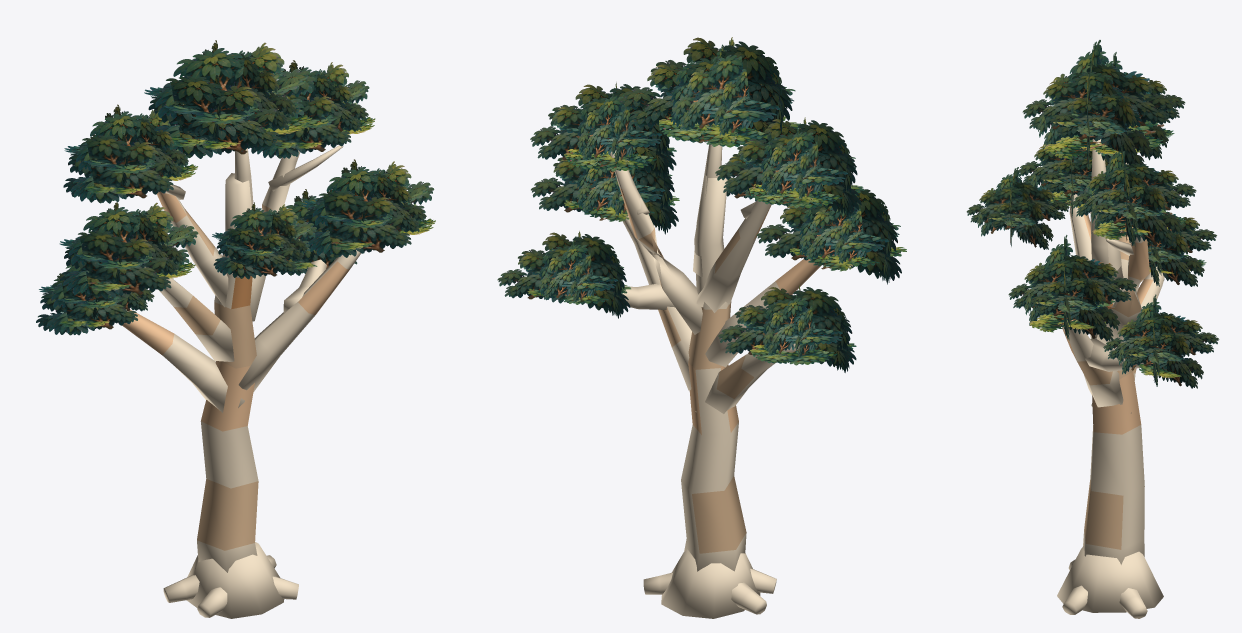
The model's file is TREE_EUCALYPTUS_001_v010_LOD_MAP.glb.
3 renders of one model, left to right at view 1: azimuth 30°, elevation 25°; view 2: azimuth 150°, elevation 25°; view 3: azimuth 270°, elevation 25°, orthographic. The views are drawn at different scales.
Parts seen in each view (by area): view 1: TREE_EUCALYPTUS_001_MAP_AUTHORED_FOLIAGE_ISLANDS, TREE_EUCALYPTUS_001_MAP_MAIN_TRUNK, TREE_EUCALYPTUS_001_MAP_SCULPTED_ROOT_COLLAR, TREE_EUCALYPTUS_001_MAP_MID_RIGHT_SWEEP, TREE_EUCALYPTUS_001_MAP_LOWER_LEFT_SWEEP, TREE_EUCALYPTUS_001_MAP_MID_LEFT_ARCH, TREE_EUCALYPTUS_001_MAP_UPPER_LEFT_FORK, TREE_EUCALYPTUS_001_MAP_UPPER_RIGHT_ARCH, TREE_EUCALYPTUS_001_MAP_RIGHT_TOP_SUPPORT, TREE_EUCALYPTUS_001_MAP_ROOT_LONG_LEFT, TREE_EUCALYPTUS_001_MAP_LOWER_RIGHT_REACH, TREE_EUCALYPTUS_001_MAP_ROOT_FRONT_LEFT; view 2: TREE_EUCALYPTUS_001_MAP_AUTHORED_FOLIAGE_ISLANDS, TREE_EUCALYPTUS_001_MAP_MAIN_TRUNK, TREE_EUCALYPTUS_001_MAP_SCULPTED_ROOT_COLLAR, TREE_EUCALYPTUS_001_MAP_UPPER_RIGHT_ARCH, TREE_EUCALYPTUS_001_MAP_UPPER_LEFT_FORK, TREE_EUCALYPTUS_001_MAP_LOWER_LEFT_SWEEP, TREE_EUCALYPTUS_001_MAP_MID_RIGHT_SWEEP, TREE_EUCALYPTUS_001_MAP_MID_LEFT_ARCH, TREE_EUCALYPTUS_001_MAP_LOWER_RIGHT_REACH, TREE_EUCALYPTUS_001_MAP_CENTRAL_CROWN_FORK, TREE_EUCALYPTUS_001_MAP_ROOT_LONG_LEFT; view 3: TREE_EUCALYPTUS_001_MAP_AUTHORED_FOLIAGE_ISLANDS, TREE_EUCALYPTUS_001_MAP_MAIN_TRUNK, TREE_EUCALYPTUS_001_MAP_SCULPTED_ROOT_COLLAR, TREE_EUCALYPTUS_001_MAP_MID_RIGHT_SWEEP, TREE_EUCALYPTUS_001_MAP_UPPER_RIGHT_ARCH, TREE_EUCALYPTUS_001_MAP_CENTRAL_CROWN_FORK, TREE_EUCALYPTUS_001_MAP_MID_LEFT_ARCH, TREE_EUCALYPTUS_001_MAP_LOWER_RIGHT_REACH, TREE_EUCALYPTUS_001_MAP_LOWER_LEFT_SWEEP, TREE_EUCALYPTUS_001_MAP_ROOT_RIGHT_SIDE, TREE_EUCALYPTUS_001_MAP_ROOT_FRONT_RIGHT.
Boxes of the visible parts, x1,y1,x2,y2 form: TREE_EUCALYPTUS_001_MAP_AUTHORED_FOLIAGE_ISLANDS: [36, 40, 435, 335]; TREE_EUCALYPTUS_001_MAP_MAIN_TRUNK: [197, 173, 258, 572]; TREE_EUCALYPTUS_001_MAP_SCULPTED_ROOT_COLLAR: [186, 542, 284, 618]; TREE_EUCALYPTUS_001_MAP_MID_RIGHT_SWEEP: [238, 250, 361, 392]; TREE_EUCALYPTUS_001_MAP_LOWER_LEFT_SWEEP: [118, 309, 244, 412]; TREE_EUCALYPTUS_001_MAP_MID_LEFT_ARCH: [144, 267, 234, 361]; TREE_EUCALYPTUS_001_MAP_UPPER_LEFT_FORK: [157, 191, 228, 307]; TREE_EUCALYPTUS_001_MAP_UPPER_RIGHT_ARCH: [250, 150, 300, 321]; TREE_EUCALYPTUS_001_MAP_RIGHT_TOP_SUPPORT: [268, 145, 343, 191]; TREE_EUCALYPTUS_001_MAP_ROOT_LONG_LEFT: [163, 575, 199, 602]; TREE_EUCALYPTUS_001_MAP_LOWER_RIGHT_REACH: [283, 259, 326, 312]; TREE_EUCALYPTUS_001_MAP_ROOT_FRONT_LEFT: [197, 587, 227, 617]; TREE_EUCALYPTUS_001_MAP_AUTHORED_FOLIAGE_ISLANDS: [497, 37, 906, 372]; TREE_EUCALYPTUS_001_MAP_MAIN_TRUNK: [681, 174, 746, 571]; TREE_EUCALYPTUS_001_MAP_SCULPTED_ROOT_COLLAR: [661, 549, 760, 618]; TREE_EUCALYPTUS_001_MAP_UPPER_RIGHT_ARCH: [610, 150, 702, 334]; TREE_EUCALYPTUS_001_MAP_UPPER_LEFT_FORK: [696, 199, 771, 312]; TREE_EUCALYPTUS_001_MAP_LOWER_LEFT_SWEEP: [695, 343, 799, 413]; TREE_EUCALYPTUS_001_MAP_MID_RIGHT_SWEEP: [615, 204, 691, 390]; TREE_EUCALYPTUS_001_MAP_MID_LEFT_ARCH: [705, 259, 821, 367]; TREE_EUCALYPTUS_001_MAP_LOWER_RIGHT_REACH: [622, 283, 674, 309]; TREE_EUCALYPTUS_001_MAP_CENTRAL_CROWN_FORK: [693, 123, 723, 276]; TREE_EUCALYPTUS_001_MAP_ROOT_LONG_LEFT: [731, 582, 766, 614]; TREE_EUCALYPTUS_001_MAP_AUTHORED_FOLIAGE_ISLANDS: [966, 40, 1219, 388]; TREE_EUCALYPTUS_001_MAP_MAIN_TRUNK: [1083, 211, 1144, 564]; TREE_EUCALYPTUS_001_MAP_SCULPTED_ROOT_COLLAR: [1057, 546, 1163, 612]; TREE_EUCALYPTUS_001_MAP_MID_RIGHT_SWEEP: [1062, 327, 1123, 407]; TREE_EUCALYPTUS_001_MAP_UPPER_RIGHT_ARCH: [1096, 236, 1149, 349]; TREE_EUCALYPTUS_001_MAP_CENTRAL_CROWN_FORK: [1091, 139, 1123, 279]; TREE_EUCALYPTUS_001_MAP_MID_LEFT_ARCH: [1069, 194, 1091, 338]; TREE_EUCALYPTUS_001_MAP_LOWER_RIGHT_REACH: [1085, 339, 1151, 371]; TREE_EUCALYPTUS_001_MAP_LOWER_LEFT_SWEEP: [1091, 266, 1164, 413]; TREE_EUCALYPTUS_001_MAP_ROOT_RIGHT_SIDE: [1119, 588, 1147, 618]; TREE_EUCALYPTUS_001_MAP_ROOT_FRONT_RIGHT: [1062, 585, 1087, 614].
Bounding box in the file's own units: 9.99 × 13.9 × 6.29.
Materials: 5 (1 with a texture image).
